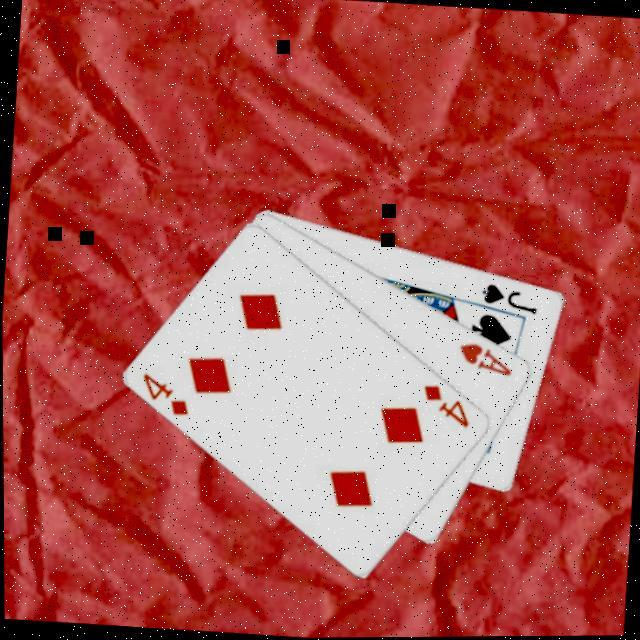4D: (416, 381, 474, 433), (136, 369, 193, 421)
AH: (453, 340, 515, 380)
JS: (476, 280, 540, 318)
